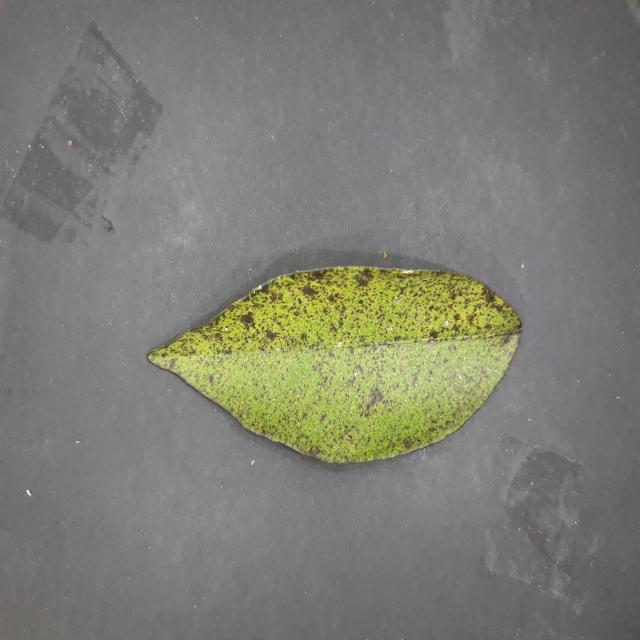greasy_spot: (147, 266, 521, 463)
